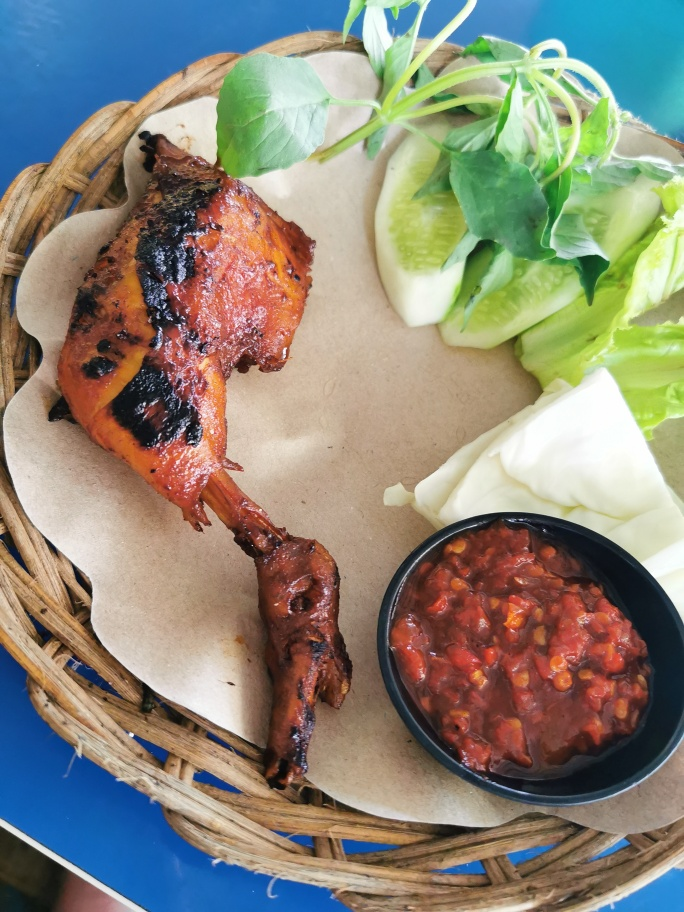ayam bakar: (57, 123, 382, 794)
